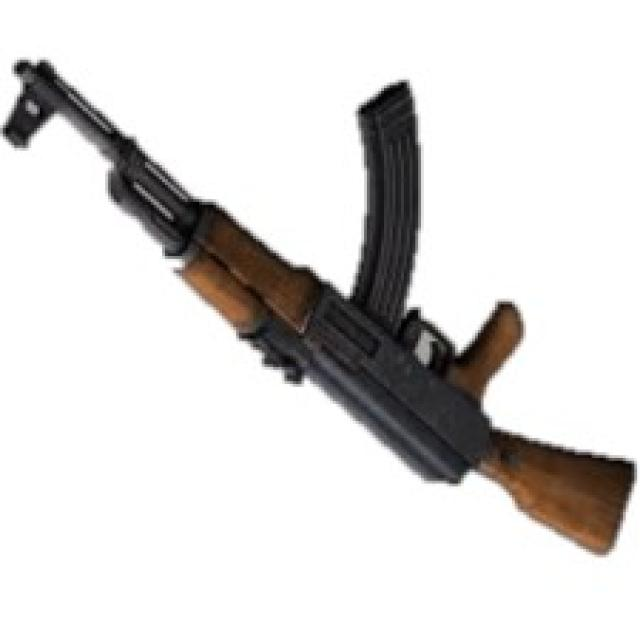rifle: (1, 45, 640, 567)
